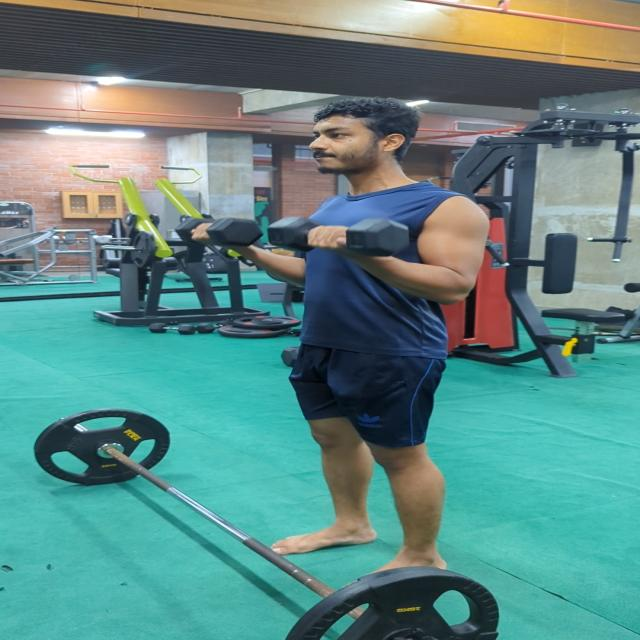Normal_DumbbellBicepCurls: (185, 95, 490, 585)
